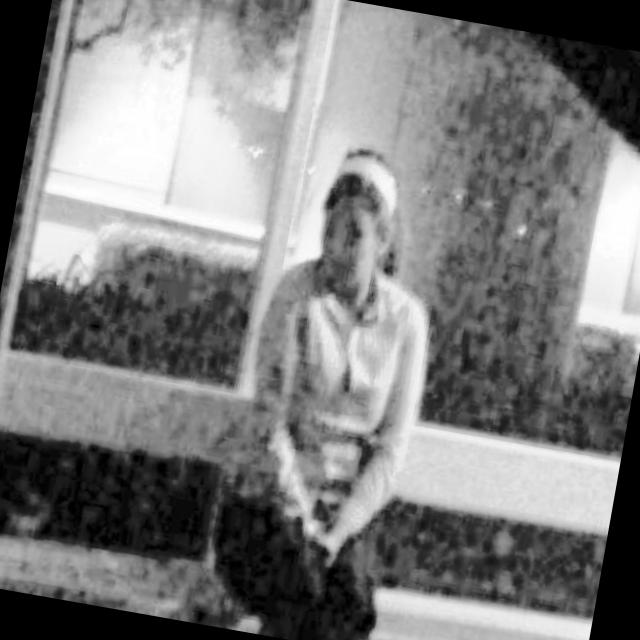Person: (189, 125, 464, 640)
